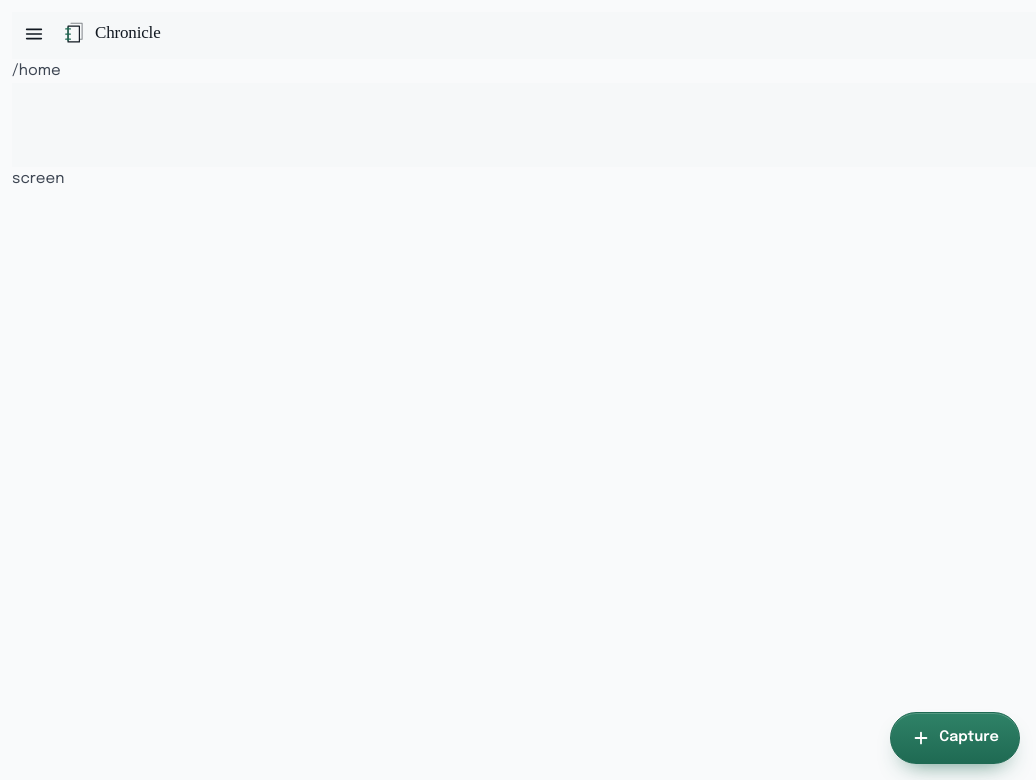
Test case: persistent Capture action › opens the canonical capture route and then steps aside
Click the button with test id "capture-fab" at (955, 738), box [890,712,1020,764]
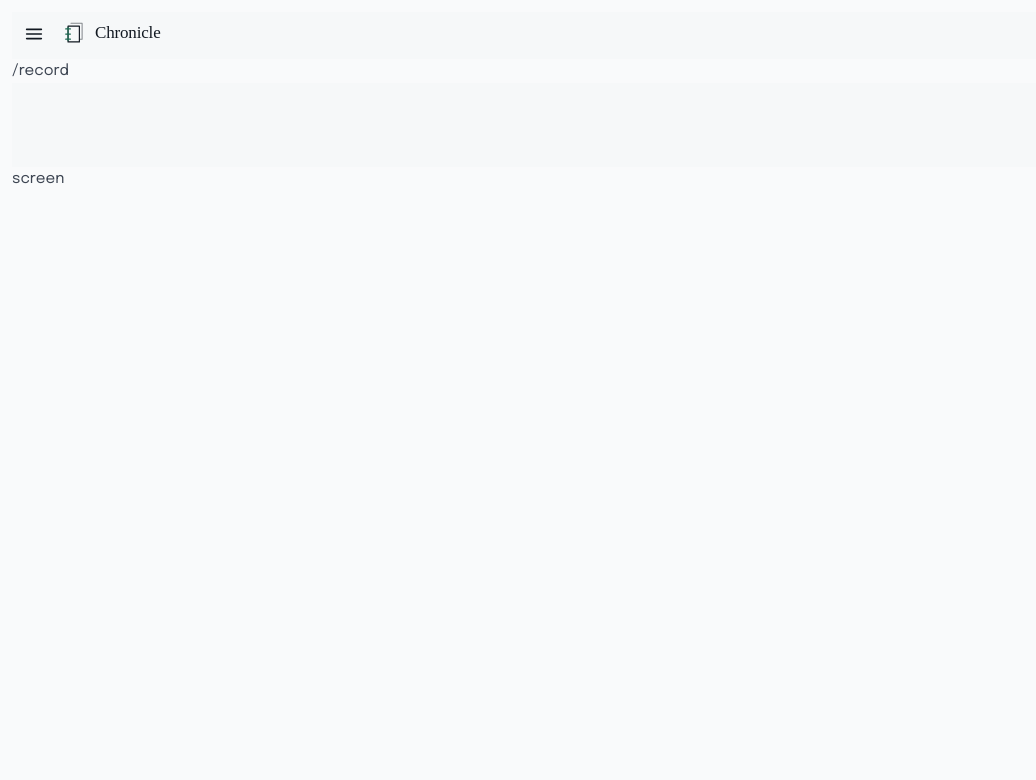
Check: the text with test id "path" reads "/record", box [12,63,69,79]
Check: the button with test id "capture-fab" is gone
